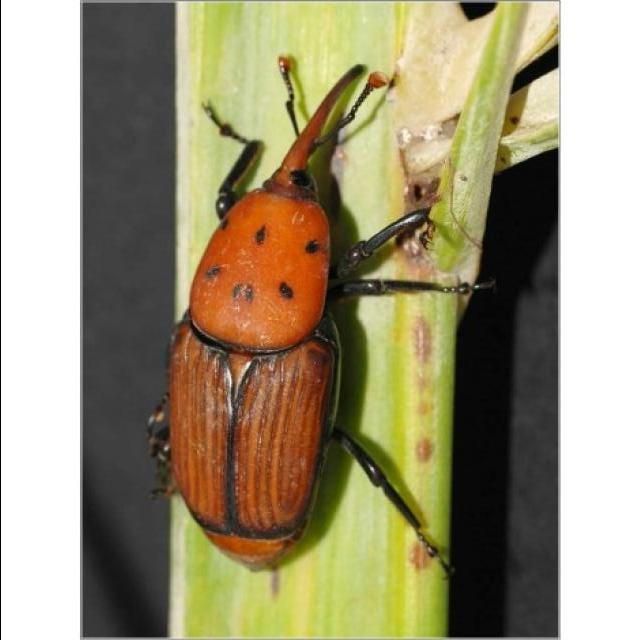Red-palm-weevil: (142, 56, 412, 576)
